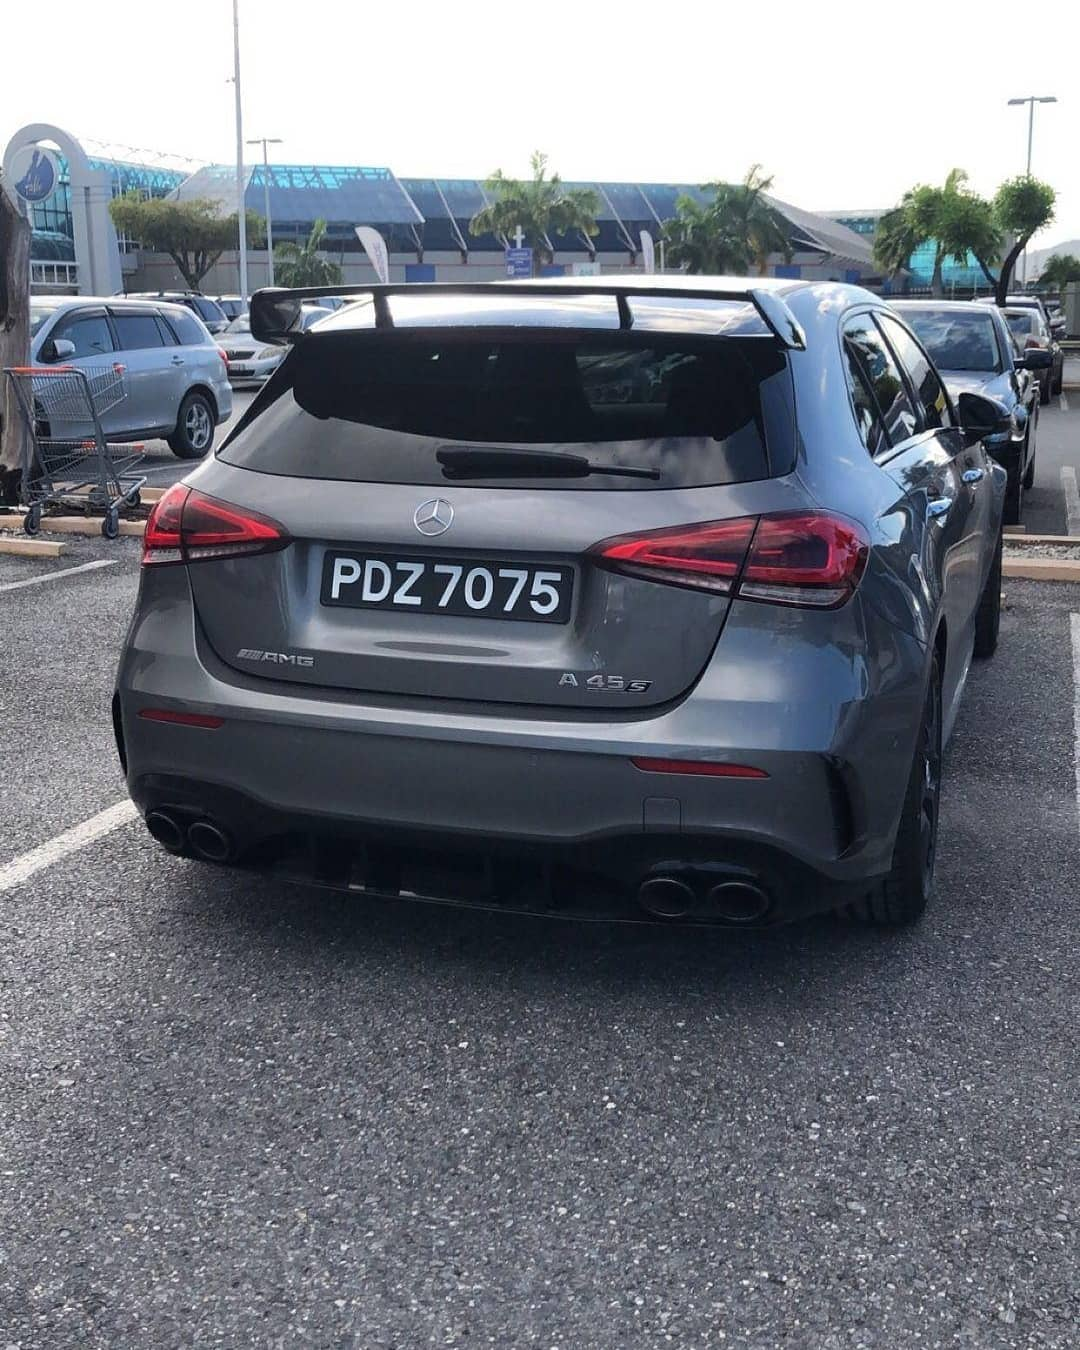License-Plate: (321, 546, 574, 602)
